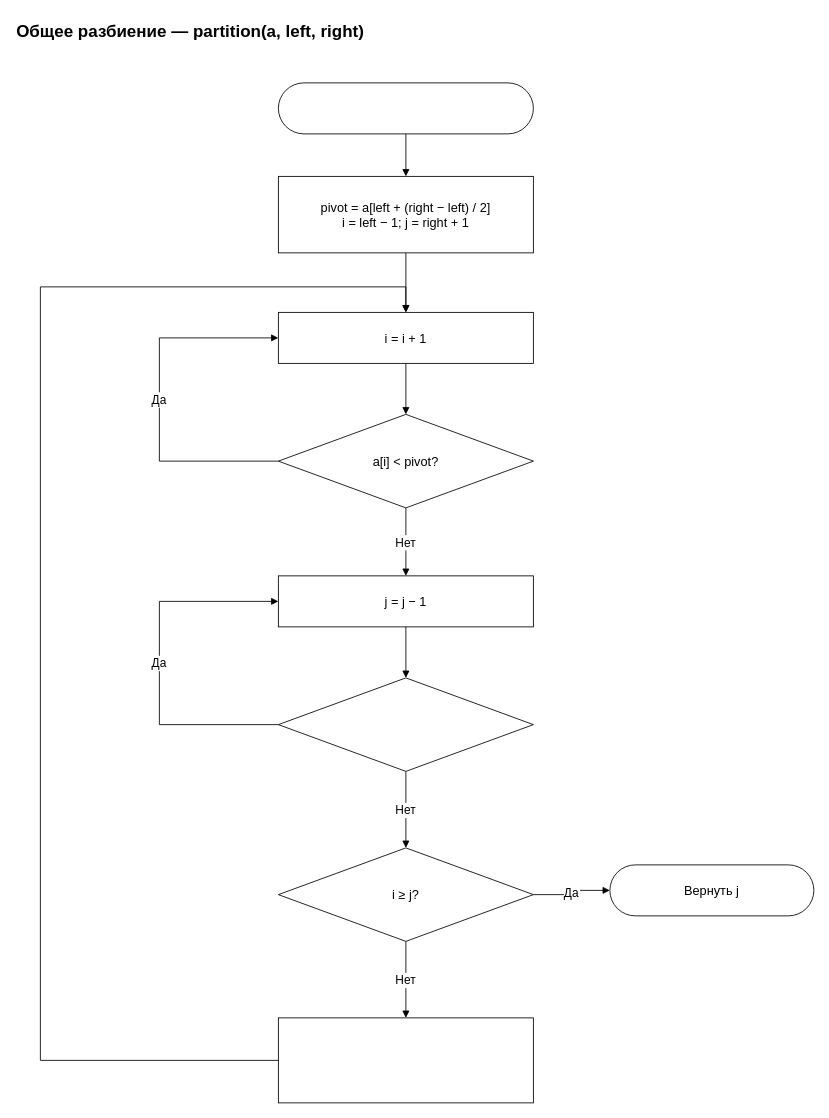
This 829x1118 diagram has some shape labels left out. The shapes that lost their labels are listed below. From the top down, each one's box as (x1, y1, x2, y2) in pixels, then its label:
(278, 82, 533, 134): Начало: a, left, right
(278, 677, 533, 771): a[j] > pivot?
(278, 1017, 533, 1103): t = a[i] a[i] = a[j] a[j] = t
